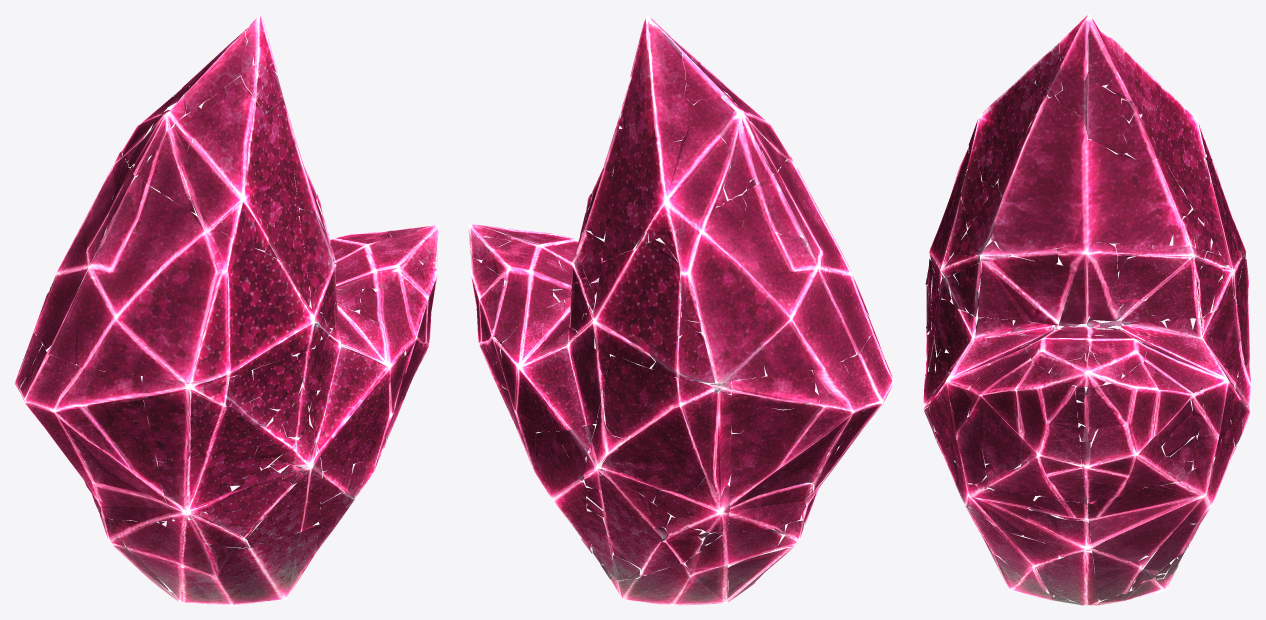
File: low_poly_pink_gem.glb
3 views of the same model, side by side, from view 1: azimuth 30°, elevation 25°; view 2: azimuth 150°, elevation 25°; view 3: azimuth 270°, elevation 25° (orthographic). The views are drawn at different scales.
Parts seen in each view (by area): view 1: tripo_node_99d5c2c8-011f-49ac-b6bb-cb33392cb96a; view 2: tripo_node_99d5c2c8-011f-49ac-b6bb-cb33392cb96a; view 3: tripo_node_99d5c2c8-011f-49ac-b6bb-cb33392cb96a.
Part boxes in pixels (left/top/right/bottom): tripo_node_99d5c2c8-011f-49ac-b6bb-cb33392cb96a: left=14, top=14, right=439, bottom=605; tripo_node_99d5c2c8-011f-49ac-b6bb-cb33392cb96a: left=468, top=14, right=894, bottom=605; tripo_node_99d5c2c8-011f-49ac-b6bb-cb33392cb96a: left=923, top=14, right=1251, bottom=605.
Size of the model in its own units: 0.7619 by 0.9801 by 0.4988.
Materials: 1 (1 with a texture image).
